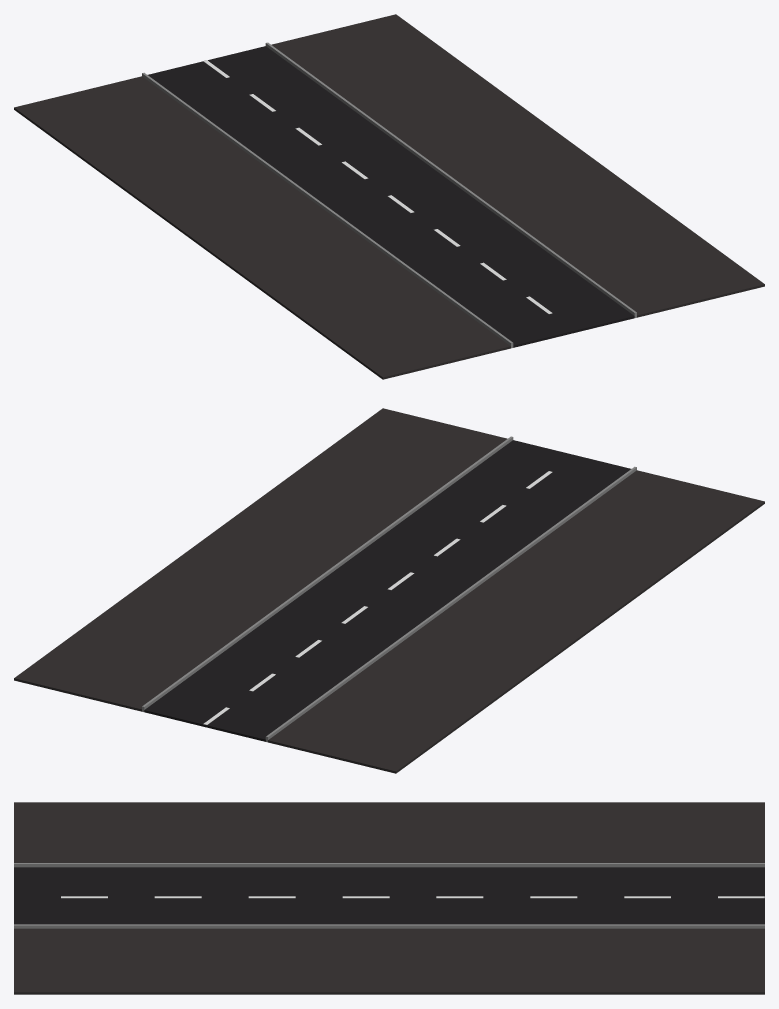
The model's file is road_smallcity.fbx.
3 renders of one model, top to bottom at view 1: azimuth 30°, elevation 25°; view 2: azimuth 150°, elevation 25°; view 3: azimuth 270°, elevation 25°, orthographic.
Parts seen in each view (by area): view 1: Cube.061, Cube.060, road.001, border.003, border.004, Cube.059; view 2: Cube.061, Cube.060, road.001, border.003, border.004, Cube.059; view 3: Cube.060, Cube.061, road.001, border.004, border.003, Cube.059.
Part boxes in pixels (left/top/right/bottom): Cube.061: left=14, top=76, right=510, bottom=379; Cube.060: left=271, top=14, right=764, bottom=317; road.001: left=148, top=46, right=634, bottom=347; border.003: left=265, top=42, right=636, bottom=317; border.004: left=142, top=72, right=513, bottom=348; Cube.059: left=203, top=60, right=552, bottom=313; Cube.061: left=268, top=470, right=764, bottom=773; Cube.060: left=14, top=408, right=507, bottom=711; road.001: left=144, top=440, right=630, bottom=741; border.003: left=142, top=436, right=513, bottom=711; border.004: left=265, top=466, right=636, bottom=742; Cube.059: left=203, top=471, right=552, bottom=725; Cube.060: left=14, top=928, right=764, bottom=994; Cube.061: left=14, top=802, right=764, bottom=862; road.001: left=14, top=867, right=764, bottom=924; border.004: left=14, top=863, right=764, bottom=867; border.003: left=14, top=924, right=764, bottom=928; Cube.059: left=61, top=896, right=764, bottom=898.
Bounding box in the file's own units: 891 × 11.79 × 1489.
Materials: 1 (1 with a texture image).
